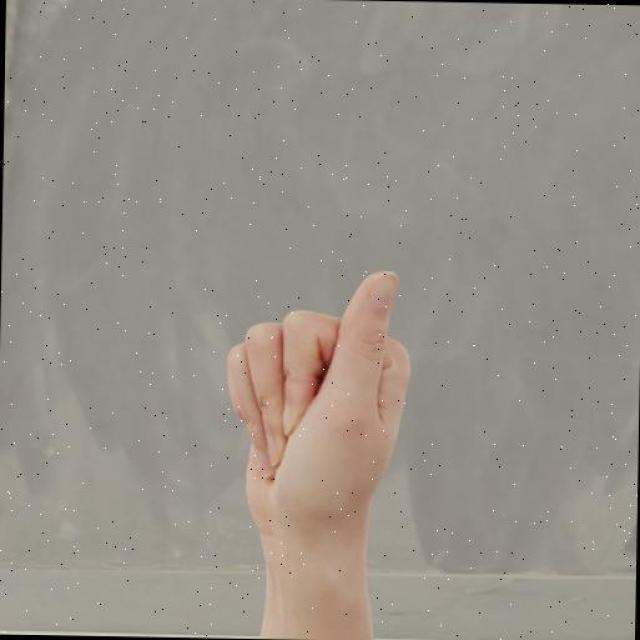A: (216, 260, 418, 551)
